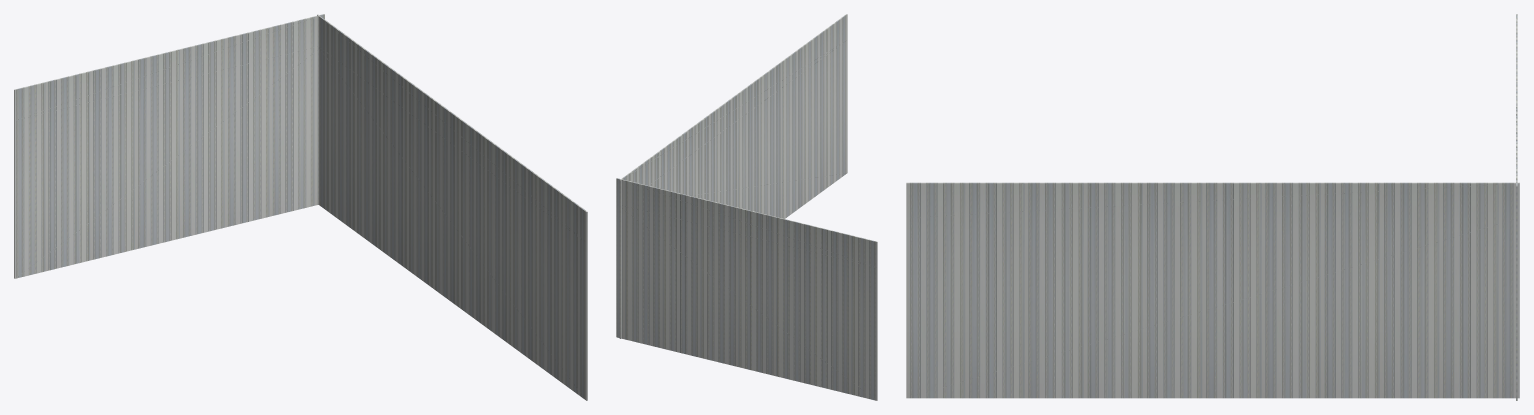
File: wall 3.fbx
3 views of the same model, side by side, from view 1: azimuth 30°, elevation 25°; view 2: azimuth 150°, elevation 25°; view 3: azimuth 270°, elevation 25° (orthographic). The views are drawn at different scales.
Visible parts, largest first — view 1: polySurface57, polySurface54; view 2: polySurface57, polySurface54; view 3: polySurface54, polySurface57.
Part boxes in pixels (<box>): polySurface57: <box>14,14,324,278</box>; polySurface54: <box>317,14,587,400</box>; polySurface57: <box>616,178,877,400</box>; polySurface54: <box>619,14,847,338</box>; polySurface54: <box>906,182,1519,398</box>; polySurface57: <box>1516,14,1517,400</box>.
Bounding box in the file's own units: 5.16 × 3 × 7.77.
1 material, 1 textured.
